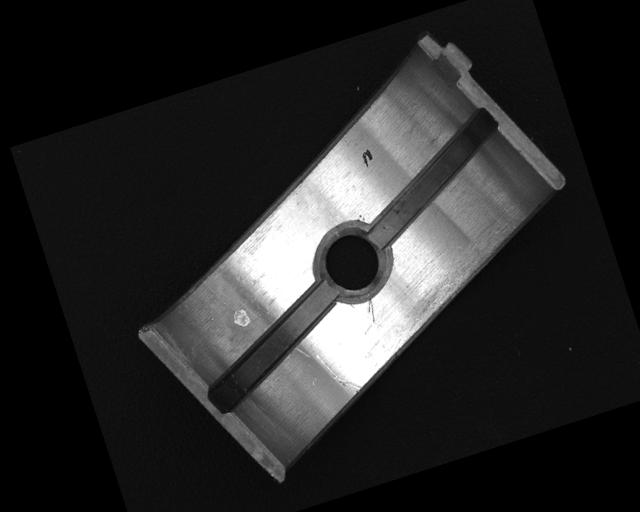blot: (358, 147, 375, 168)
bruise: (229, 306, 251, 330)
gap: (344, 108, 521, 248), (187, 283, 356, 412)
hole: (305, 213, 402, 307)
nick: (314, 342, 364, 402), (363, 297, 379, 324)
scratch: (390, 218, 546, 332)
